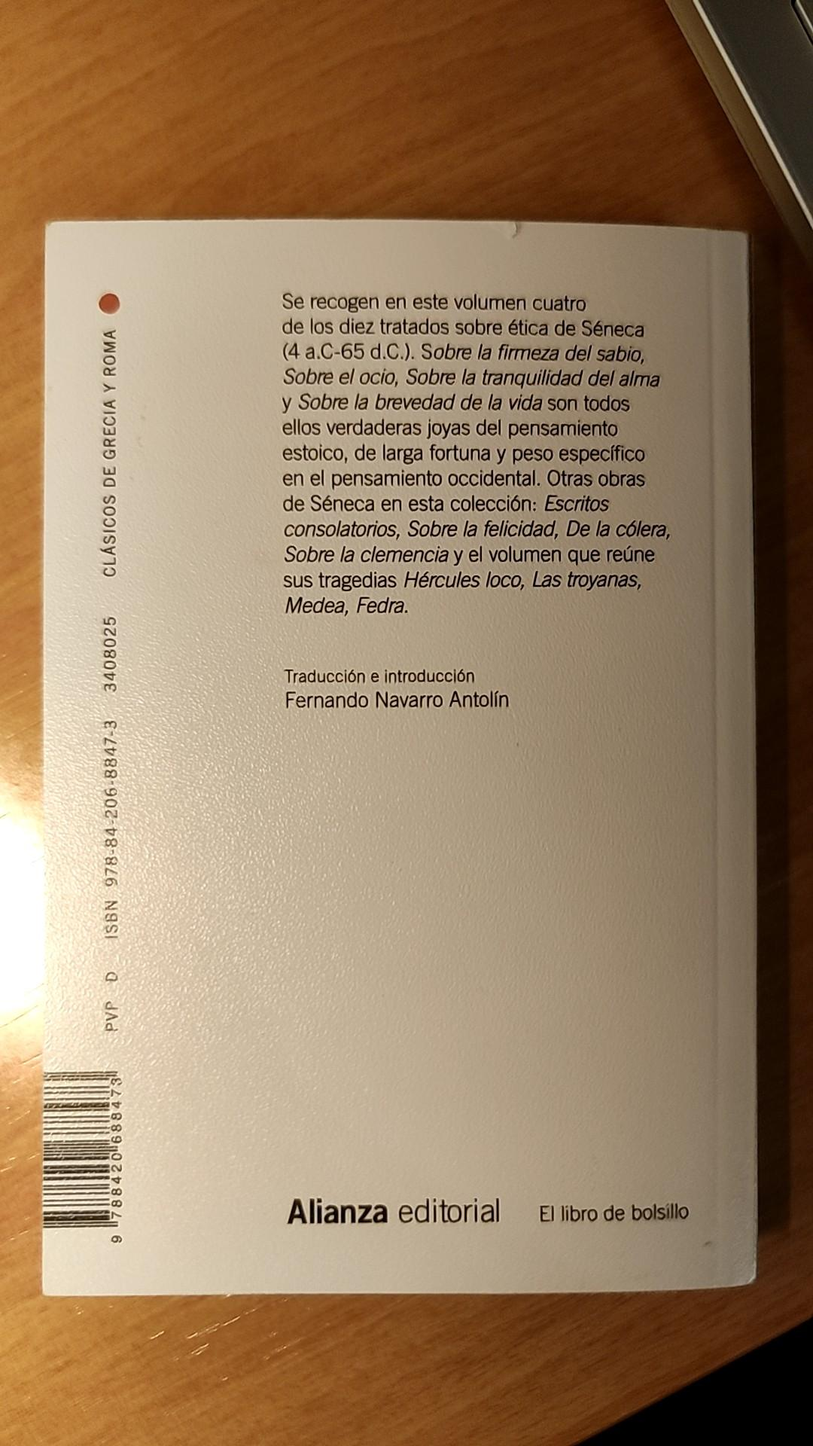book: (43, 221, 755, 1295)
